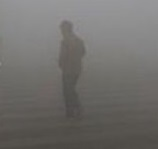person: (56, 19, 89, 119)
